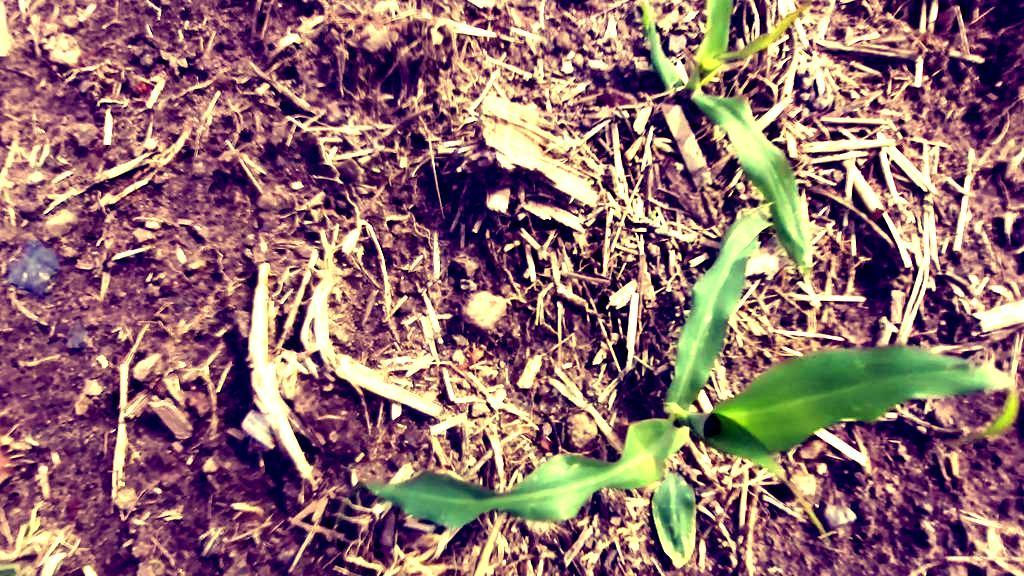BroWeed: (500, 239, 521, 254), (585, 177, 596, 186), (650, 209, 657, 219)
